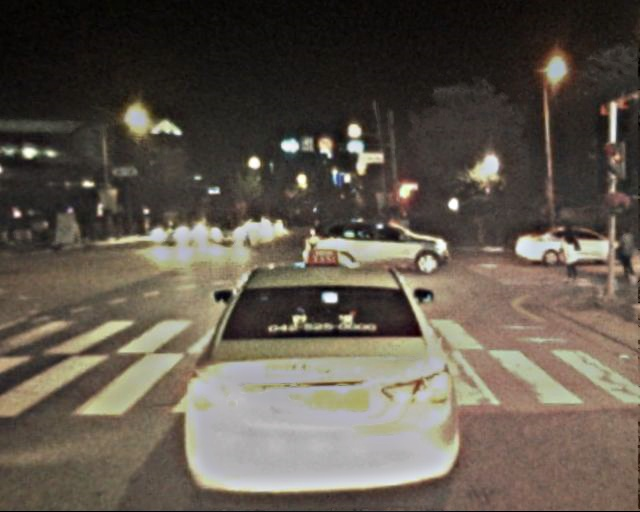person: (560, 228, 585, 287), (617, 228, 639, 286)
